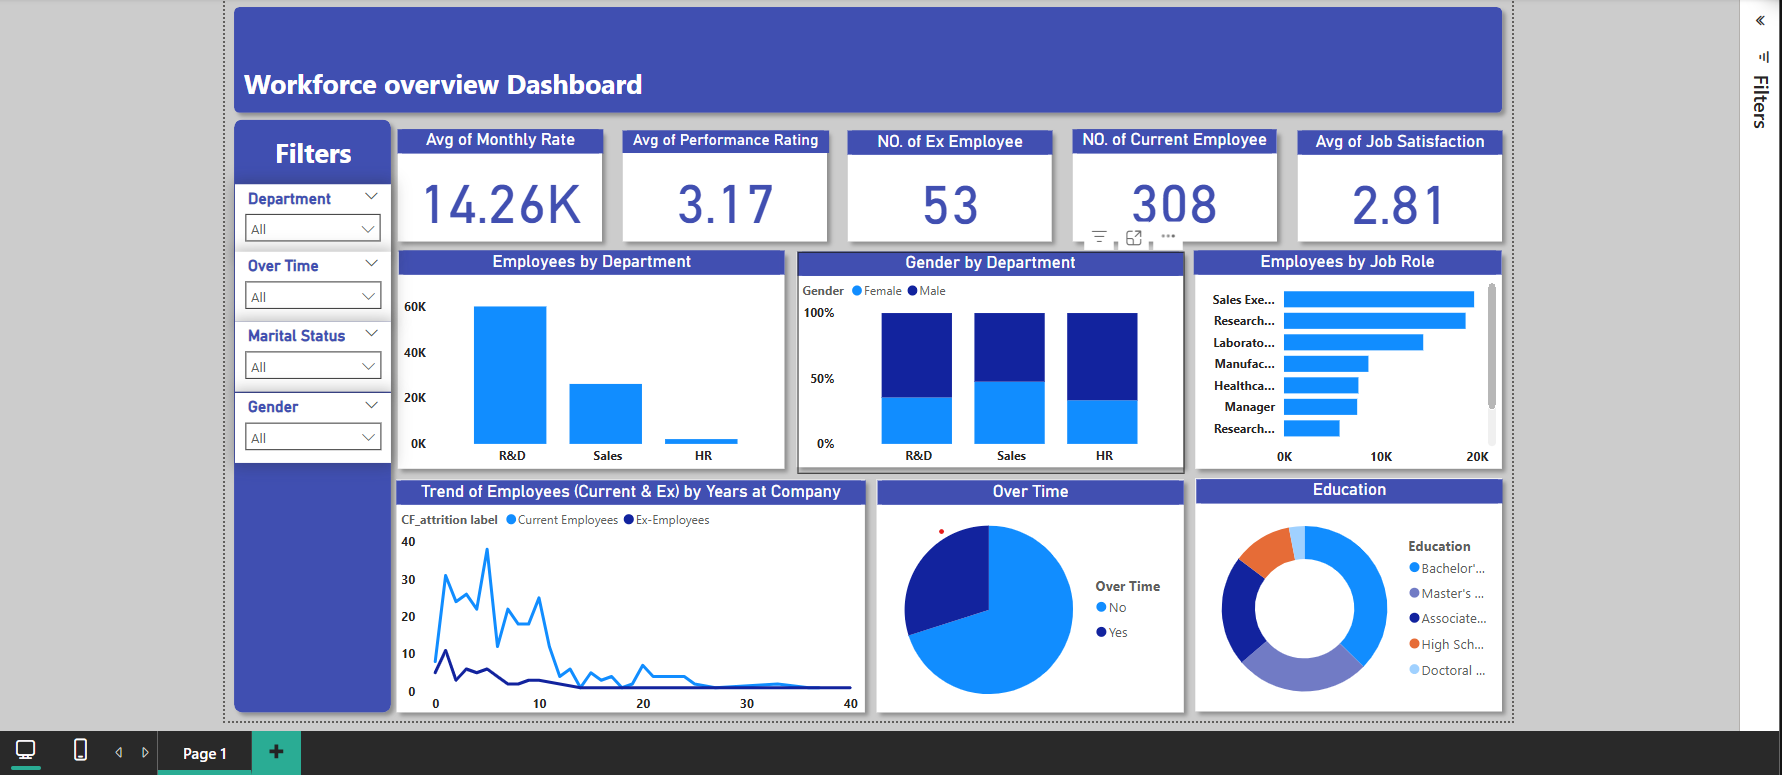

The dashboard page shown, as its layout file describes it:
{"tool":"powerbi","page":{"name":"Page 1","canvas":[1280,720],"ordinal":0},"visuals":[{"type":"shape","box":[834.6,123.2,221.4,128.1],"z":0},{"type":"shape","box":[387,123.2,221.4,128.1],"z":1000},{"type":"shape","box":[0,0,1280.3,123.5],"z":2000},{"type":"shape","box":[0,112,174.2,608.3],"z":3000},{"type":"textbox","box":[12.4,130.6,150.5,46],"z":4000},{"type":"card","title":"Avg of Performance Rating","fields":{"Values":["Avg(Sheet1.Performance Rating)"]},"box":[395.6,131.9,205.3,114.4],"z":5000},{"type":"shape","box":[163,123.2,221.4,128.1],"z":6000},{"type":"card","title":"Avg of Monthly Rate","fields":{"Values":["Avg(Sheet1.Monthly Rate)"]},"box":[171.7,130.6,205,115.7],"z":7000},{"type":"shape","box":[611,123.2,221,128.1],"z":8000},{"type":"card","title":"NO. of Ex Employee","fields":{"Values":["CountNonNull(Sheet1.CF_attrition label)"]},"box":[619.5,131.9,204,114.4],"z":9000},{"type":"shape","box":[1058.6,123.2,221.4,128.1],"z":10000},{"type":"card","title":"Avg of Job Satisfaction","fields":{"Values":["Avg(Sheet1.Job Satisfaction)"]},"box":[1067.3,131.9,204,115],"z":11000},{"type":"shape","box":[163,243.8,403,233.9],"z":12000},{"type":"shape","box":[559.8,243.8,403,232],"z":13000},{"type":"shape","box":[956.6,243.8,323.4,233.9],"z":14000},{"type":"shape","box":[161.9,470.2,484.4,249.7],"z":15000},{"type":"shape","box":[956.6,469,323.4,250],"z":16000},{"type":"card","title":"NO. of Current Employee","fields":{"Values":["CountNonNull(Sheet1.CF_attrition label)"]},"box":[843.9,130.4,203.1,115.3],"z":17000},{"type":"clusteredColumnChart","title":"Employees by Department","fields":{"Category":["Sheet1.Department"],"Y":["Sum(Sheet1.Employee Number)","Sum(Sheet1.Employee Number)"]},"box":[172.9,251.3,384.4,222.7],"z":18000},{"type":"hundredPercentStackedColumnChart","title":"Gender by Department","fields":{"Category":["Sheet1.Department"],"Series":["Sheet1.Gender"],"Y":["CountNonNull(Sheet1.Gender)"]},"box":[569.7,252.5,384.4,221.4],"z":19000},{"type":"barChart","title":"Employees by Job Role","fields":{"Y":["Sum(Sheet1.Employee Number)"],"Category":["Sheet1.Job Role"]},"box":[964.1,251.3,306,223.9],"z":20000},{"type":"lineChart","title":"Trend of Employees (Current & Ex) by Years at Company","fields":{"Y":["CountNonNull(Sheet1.CF_attrition label)"],"Category":["Sheet1.Years At Company"],"Series":["Sheet1.CF_attrition label"]},"box":[170.2,479.8,467,240.1],"z":21000},{"type":"shape","box":[639.5,470.2,323.8,249.7],"z":22000},{"type":"pieChart","title":"Over Time","fields":{"Category":["Sheet1.Over Time"],"Y":["CountNonNull(Sheet1.Over Time)"]},"box":[649.1,480.3,305,238.8],"z":23000},{"type":"donutChart","title":"Education","fields":{"Category":["Sheet1.Education"],"Y":["CountNonNull(Sheet1.Education)"]},"box":[966.6,478.9,305,238.8],"z":24000},{"type":"slicer","title":"Avg of Monthly Rate","fields":{"Values":["Sheet1.Department"]},"box":[10,185.3,155,70],"z":25000},{"type":"slicer","title":"Avg of Monthly Rate","fields":{"Values":["Sheet1.Over Time"]},"box":[10,252.5,155.5,69.7],"z":26000},{"type":"slicer","title":"Avg of Monthly Rate","fields":{"Values":["Sheet1.Marital Status"]},"box":[10,322.2,155.5,69.7],"z":27000},{"type":"slicer","title":"Avg of Monthly Rate","fields":{"Values":["Sheet1.Gender"]},"box":[10,393.1,155.5,69.7],"z":28000},{"type":"textbox","box":[12.4,62.2,416.7,46],"z":29000}]}

Visuals, with their boxes on the page's 1280x720 design canvas (x1, y1, x2, y2). These are canvas units, not pixel positions in the 1782x775 screenshot, which may show the page scaled, cropped or inside an application window:
shape: select_region(835, 123, 1056, 251)
shape: select_region(387, 123, 608, 251)
shape: select_region(0, 0, 1280, 124)
shape: select_region(0, 112, 174, 720)
textbox: select_region(12, 131, 163, 177)
"Avg of Performance Rating" card: select_region(396, 132, 601, 246)
shape: select_region(163, 123, 384, 251)
"Avg of Monthly Rate" card: select_region(172, 131, 377, 246)
shape: select_region(611, 123, 832, 251)
"NO. of Ex Employee" card: select_region(620, 132, 824, 246)
shape: select_region(1059, 123, 1280, 251)
"Avg of Job Satisfaction" card: select_region(1067, 132, 1271, 247)
shape: select_region(163, 244, 566, 478)
shape: select_region(560, 244, 963, 476)
shape: select_region(957, 244, 1280, 478)
shape: select_region(162, 470, 646, 720)
shape: select_region(957, 469, 1280, 719)
"NO. of Current Employee" card: select_region(844, 130, 1047, 246)
"Employees by Department" clusteredColumnChart: select_region(173, 251, 557, 474)
"Gender by Department" hundredPercentStackedColumnChart: select_region(570, 252, 954, 474)
"Employees by Job Role" barChart: select_region(964, 251, 1270, 475)
"Trend of Employees (Current & Ex) by Years at Company" lineChart: select_region(170, 480, 637, 720)
shape: select_region(640, 470, 963, 720)
"Over Time" pieChart: select_region(649, 480, 954, 719)
"Education" donutChart: select_region(967, 479, 1272, 718)
"Avg of Monthly Rate" slicer: select_region(10, 185, 165, 255)
"Avg of Monthly Rate" slicer: select_region(10, 252, 166, 322)
"Avg of Monthly Rate" slicer: select_region(10, 322, 166, 392)
"Avg of Monthly Rate" slicer: select_region(10, 393, 166, 463)
textbox: select_region(12, 62, 429, 108)
